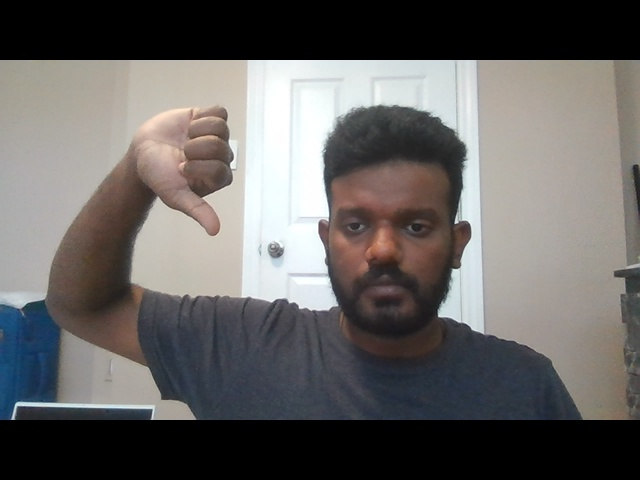no: (129, 103, 243, 241)
